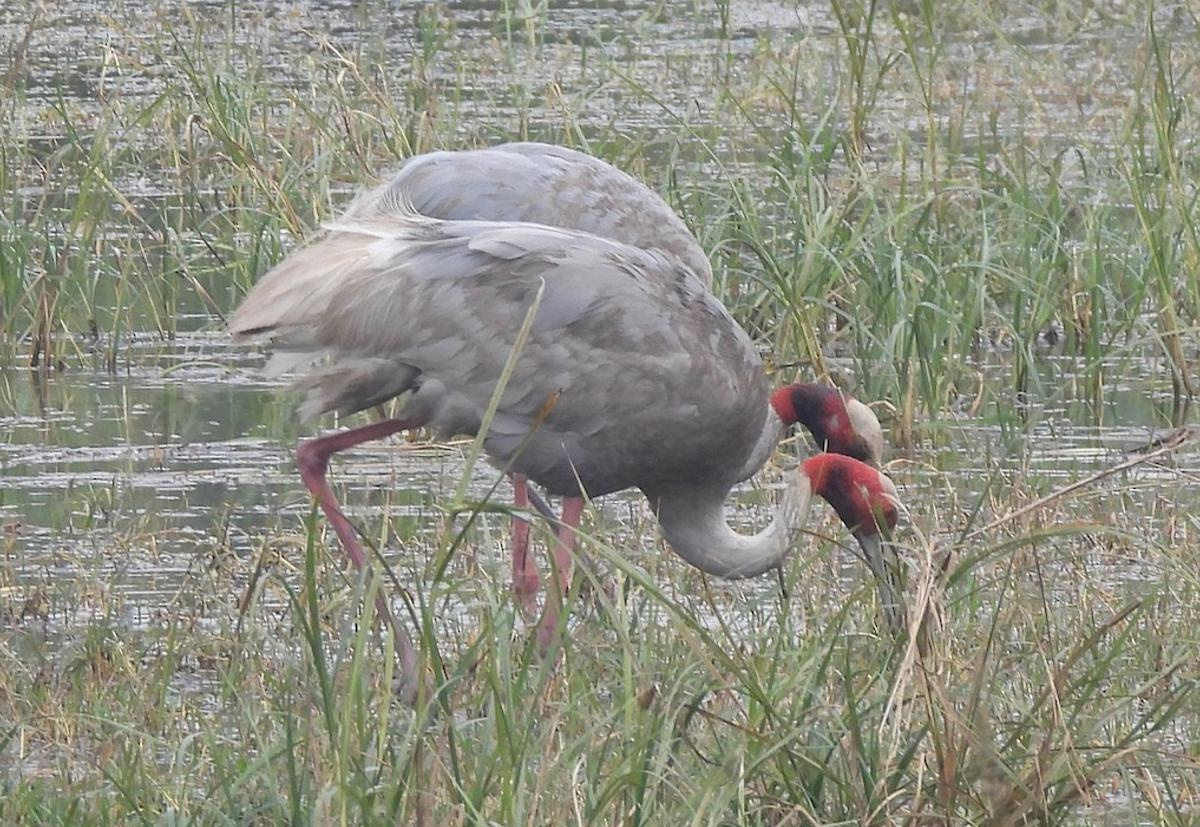crane: (254, 227, 925, 714), (378, 146, 903, 547)
